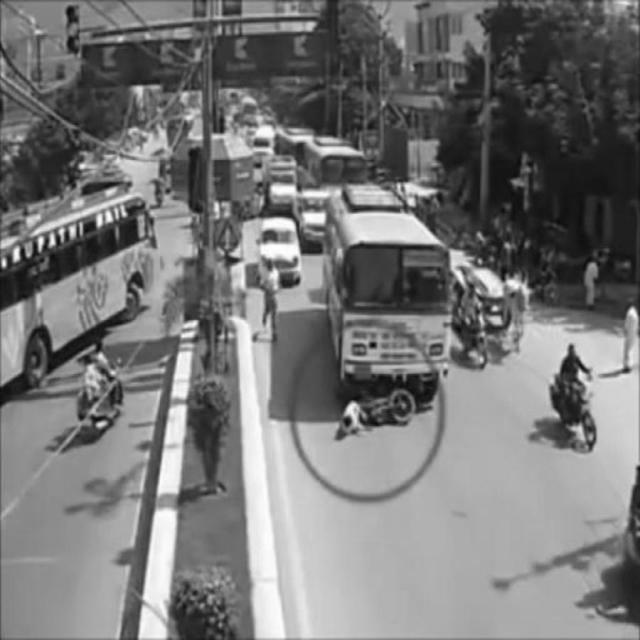accident: (321, 192, 451, 435)
person: (262, 256, 282, 344)
vehicle: (2, 187, 159, 383), (548, 335, 598, 445), (79, 336, 123, 429), (262, 218, 304, 284), (462, 287, 492, 370)
